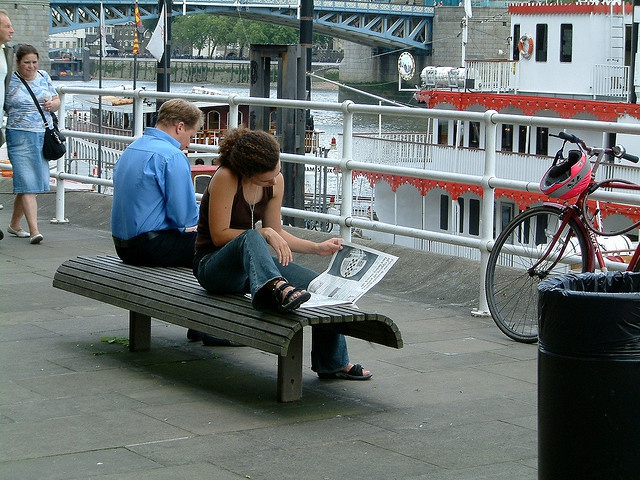non-vehicle: (484, 131, 639, 342), (305, 219, 333, 231)
